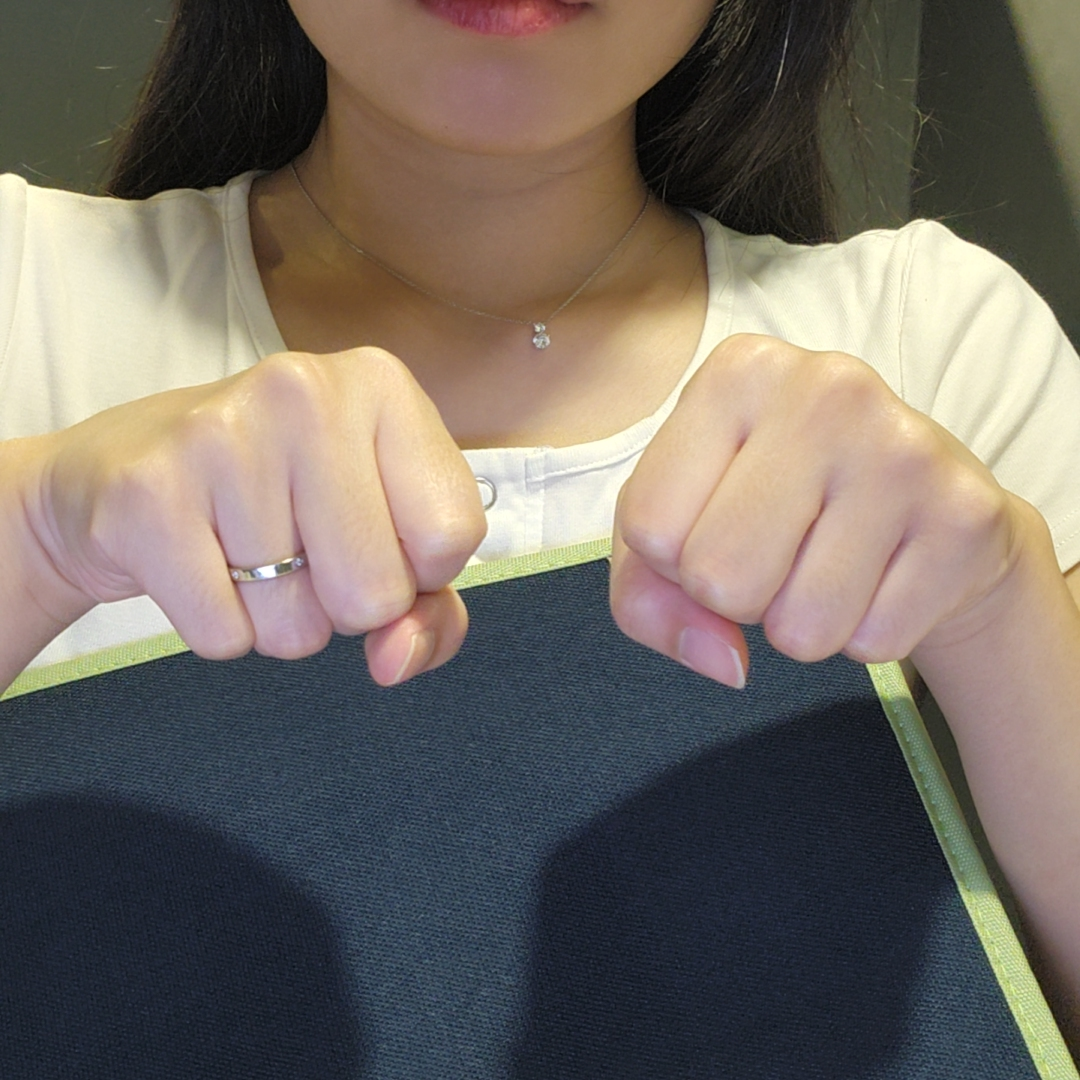hello: (79, 334, 1010, 690)
